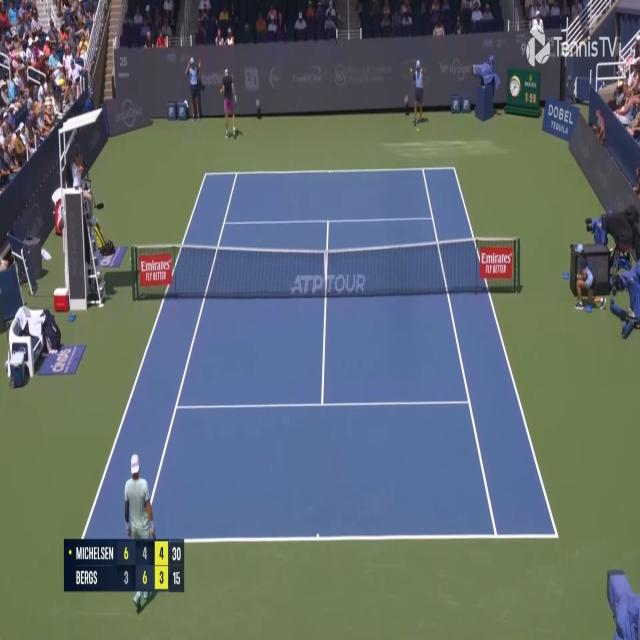tennis-player: (122, 451, 160, 616), (220, 64, 240, 140)
